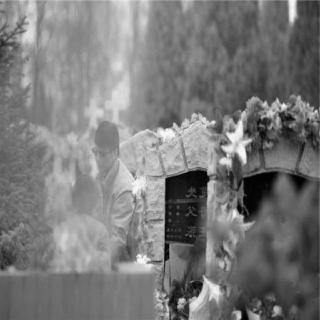other: (148, 122, 166, 136), (130, 117, 142, 135)
